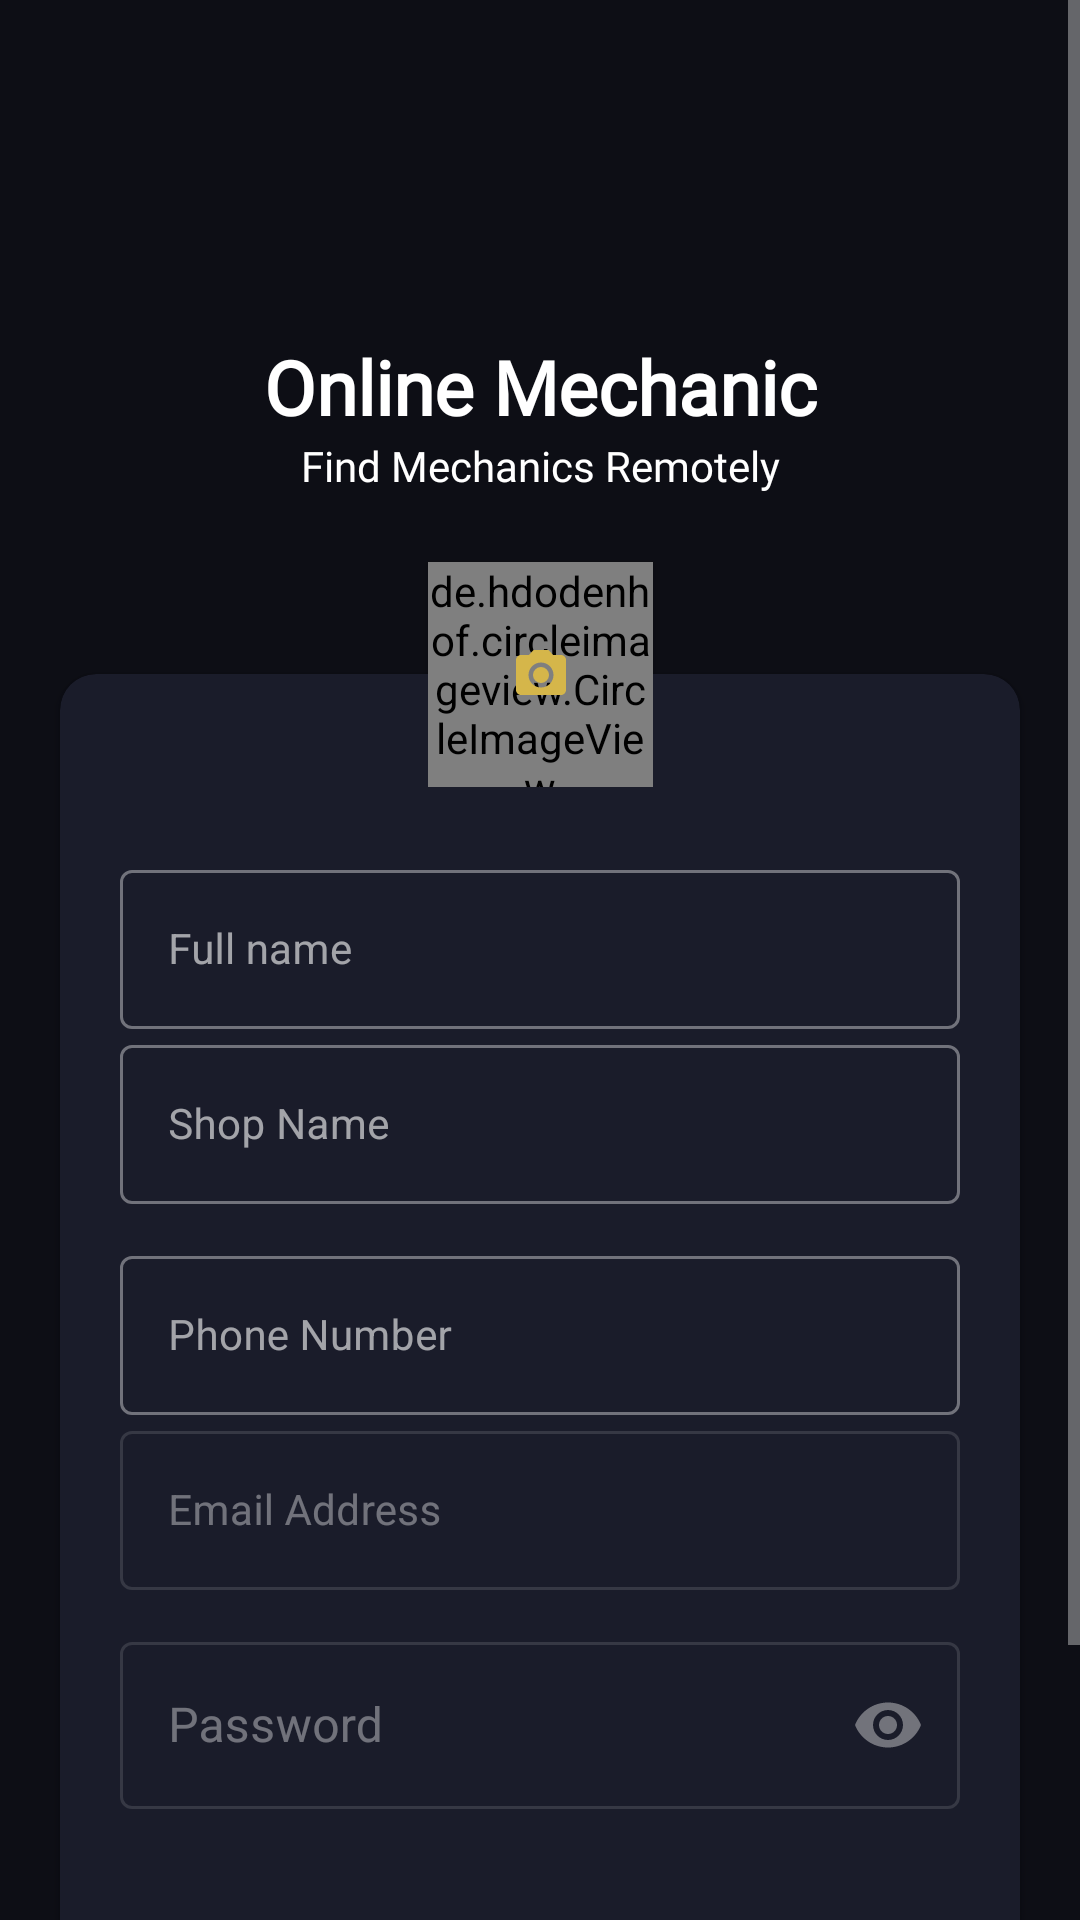

Icons on this 1080w x 1920h Android screen, each with the point to tap as (x=x, y=y):
photo camera: (x=542, y=675)
